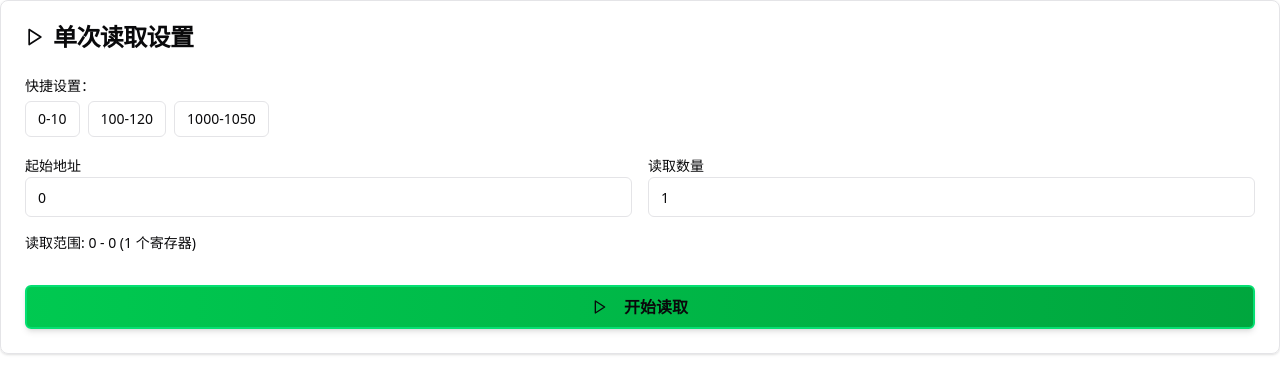
it: SingleRead › 应该正确处理快捷设置按钮
The image size is (1280, 372).
// 点击快捷设置按钮 100-120
Click the button "100-120": (127, 119) [88, 101, 166, 137]
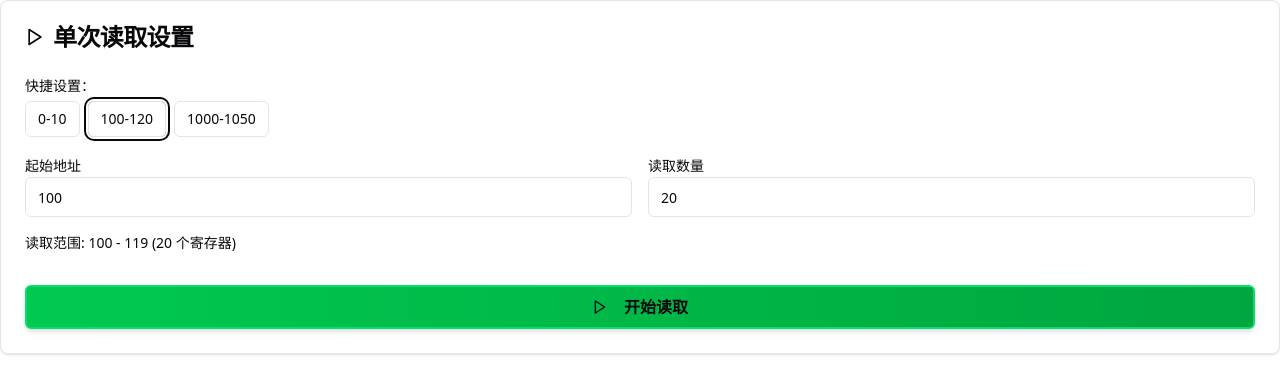
Now the number field labelled "起始地址" holds "100", box [25, 177, 632, 217]
Now the number field labelled "读取数量" holds "20", box [648, 177, 1255, 217]
